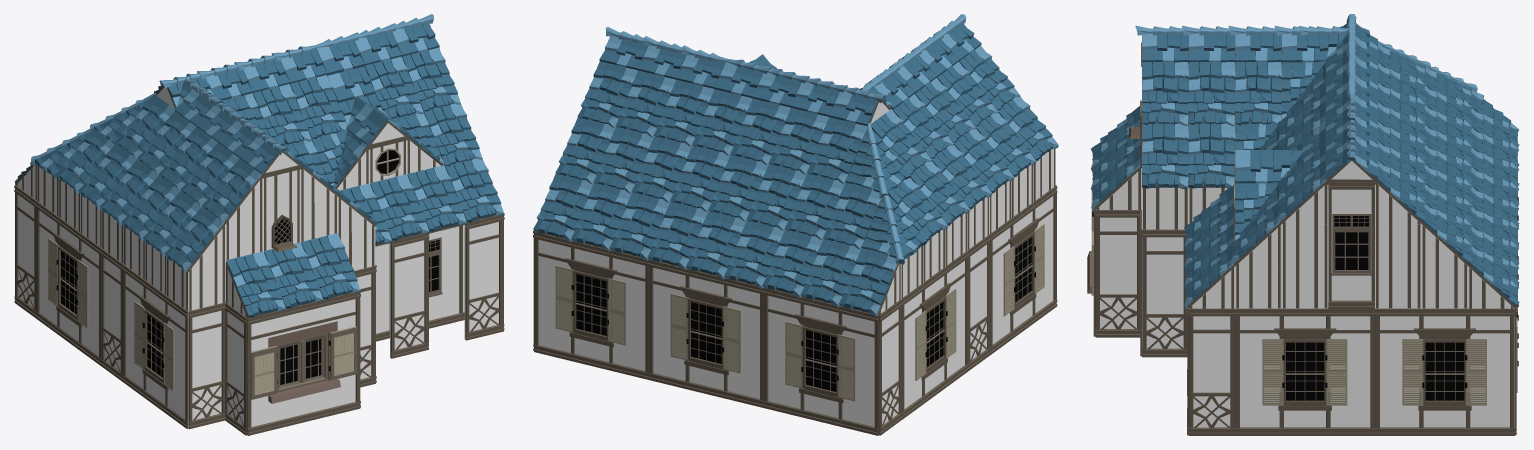
Rendered from house_20_full.fbx.
3 renders of one model, left to right at view 1: azimuth 30°, elevation 25°; view 2: azimuth 150°, elevation 25°; view 3: azimuth 270°, elevation 25°, orthographic. The views are drawn at different scales.
Parts seen in each view (by area): view 1: WINDOW_06_2, WINDOW_07_3, WINDOW_07_4, WINDOW_03_2, WALL_04_8, WALL_04_7, WALL_04_10, WALL_04_11, WALL_04_12, WALL_04_13, ROOF_base_29, ROOF_base_36 (+63 smaller); view 2: WINDOW_07_5, WINDOW_07_6, WINDOW_07_7, WINDOW_07_4, WINDOW_07_3, WALL_04_13, WALL_04_12, ROOF_base_76, ROOF_base_44, ROOF_base_67, ROOF_base_49, ROOF_base_64 (+50 smaller); view 3: WINDOW_07_8, WINDOW_07_9, WALL_04_9, WINDOW_04_4, WALL_04_3, WALL_04_5, ROOF_base_32, ROOF_base_30, ROOF_base_33, ROOF_base_31, ROOF_base_34, ROOF_up_quad_25 (+78 smaller).
Boxes of the visible parts, <box> form: WINDOW_06_2: <box>247,292,360,435</box>; WINDOW_07_3: <box>122,264,188,428</box>; WINDOW_07_4: <box>36,201,101,365</box>; WINDOW_03_2: <box>375,224,464,341</box>; WALL_04_8: <box>464,215,503,340</box>; WALL_04_7: <box>390,233,429,358</box>; WALL_04_10: <box>188,302,225,429</box>; WALL_04_11: <box>224,302,247,435</box>; WALL_04_12: <box>100,248,123,381</box>; WALL_04_13: <box>14,185,36,317</box>; ROOF_base_29: <box>226,251,285,317</box>; ROOF_base_36: <box>370,174,429,240</box>; WINDOW_07_5: <box>763,287,878,435</box>; WINDOW_07_6: <box>648,259,763,407</box>; WINDOW_07_7: <box>534,231,648,379</box>; WINDOW_07_4: <box>901,250,968,418</box>; WINDOW_07_3: <box>989,186,1057,354</box>; WALL_04_13: <box>879,299,902,435</box>; WALL_04_12: <box>968,234,990,370</box>; ROOF_base_76: <box>839,248,898,317</box>; ROOF_base_44: <box>533,173,593,242</box>; ROOF_base_67: <box>801,238,861,307</box>; ROOF_base_49: <box>571,182,631,251</box>; ROOF_base_64: <box>763,229,823,298</box>; WINDOW_07_8: <box>1375,308,1514,435</box>; WINDOW_07_9: <box>1235,308,1374,435</box>; WALL_04_9: <box>1188,308,1235,435</box>; WINDOW_04_4: <box>1328,182,1374,309</box>; WALL_04_3: <box>1095,210,1141,337</box>; WALL_04_5: <box>1142,229,1187,357</box>; ROOF_base_32: <box>1188,122,1235,188</box>; ROOF_base_30: <box>1141,122,1188,189</box>; ROOF_base_33: <box>1188,61,1235,125</box>; ROOF_base_31: <box>1141,61,1188,125</box>; ROOF_base_34: <box>1235,62,1281,125</box>; ROOF_up_quad_25: <box>1421,266,1468,308</box>.
Bounding box in the file's own units: 928 × 665 × 928.
